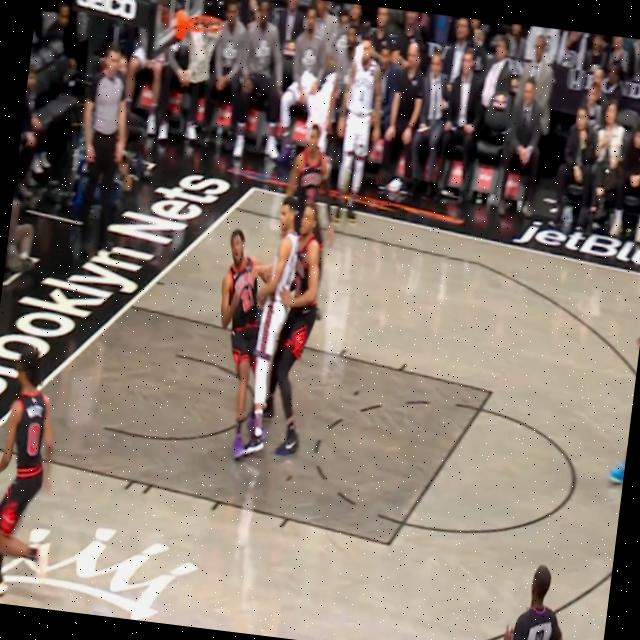Foul: (194, 187, 300, 456)
